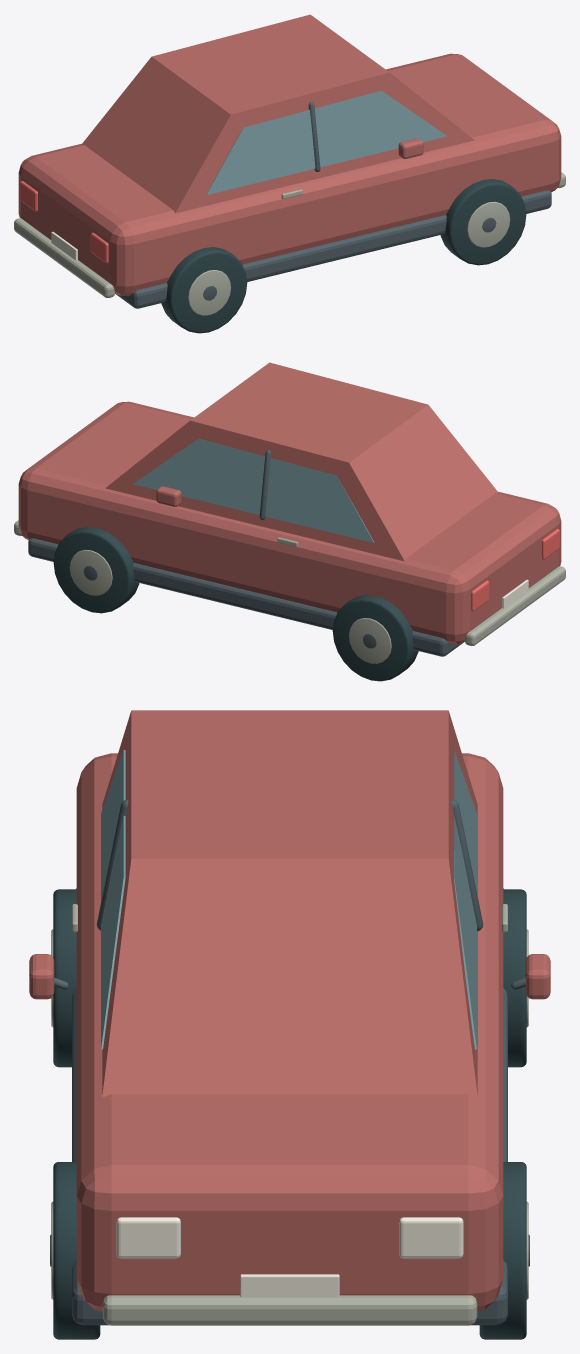
The model's file is compact_car.glb.
3 renders of one model, top to bottom at view 1: azimuth 30°, elevation 25°; view 2: azimuth 150°, elevation 25°; view 3: azimuth 270°, elevation 25°, orthographic. The views are drawn at different scales.
Parts seen in each view (by area): view 1: Rounded_body, Sculpted_cabin, Side_windows.001, Sill, Tire.003, Tire.001, Bumper, Hubcap.003, Hubcap.001, Rearview_mirror.001, Headlight.001; view 2: Rounded_body, Sculpted_cabin, Side_windows, Sill, Tire.002, Tire, Bumper, Hubcap.002, Hubcap, Rearview_mirror, Window_pillar, Headlight; view 3: Sculpted_cabin, Rounded_body, Bumper.001, Side_windows.001, Tire.002, Tire.003, Side_windows, Tire, Tire.001, Sill, Headlight.002, Headlight.003 (+4 smaller).
Part boxes in pixels (x1,y1,x2,y2): Rounded_body: [18, 53, 561, 296]; Sculpted_cabin: [81, 14, 474, 213]; Side_windows.001: [206, 90, 447, 195]; Sill: [115, 190, 551, 308]; Tire.003: [440, 179, 526, 265]; Tire.001: [161, 247, 247, 333]; Bumper: [14, 218, 114, 297]; Hubcap.003: [467, 201, 510, 247]; Hubcap.001: [188, 270, 230, 315]; Rearview_mirror.001: [398, 138, 423, 158]; Headlight.001: [90, 232, 108, 263]; Rounded_body: [18, 401, 561, 644]; Sculpted_cabin: [105, 362, 498, 561]; Side_windows: [133, 438, 374, 542]; Sill: [28, 538, 464, 656]; Tire.002: [53, 527, 139, 613]; Tire: [332, 595, 418, 681]; Bumper: [465, 566, 565, 645]; Hubcap.002: [69, 549, 112, 595]; Hubcap: [349, 618, 391, 663]; Rearview_mirror: [156, 486, 181, 506]; Window_pillar: [259, 450, 271, 519]; Headlight: [471, 580, 489, 611]; Sculpted_cabin: [102, 710, 477, 1097]; Rounded_body: [76, 753, 503, 1311]; Bumper.001: [102, 1295, 477, 1325]; Side_windows.001: [101, 750, 125, 1049]; Tire.002: [479, 1162, 526, 1339]; Tire.003: [53, 1162, 100, 1339]; Side_windows: [454, 750, 476, 1049]; Tire: [503, 889, 526, 1067]; Tire.001: [53, 889, 76, 1067]; Sill: [72, 888, 507, 1325]; Headlight.002: [399, 1217, 463, 1258]; Headlight.003: [116, 1217, 180, 1258].
Bounding box in the file's own units: 4.3 × 1.76 × 2.1.
